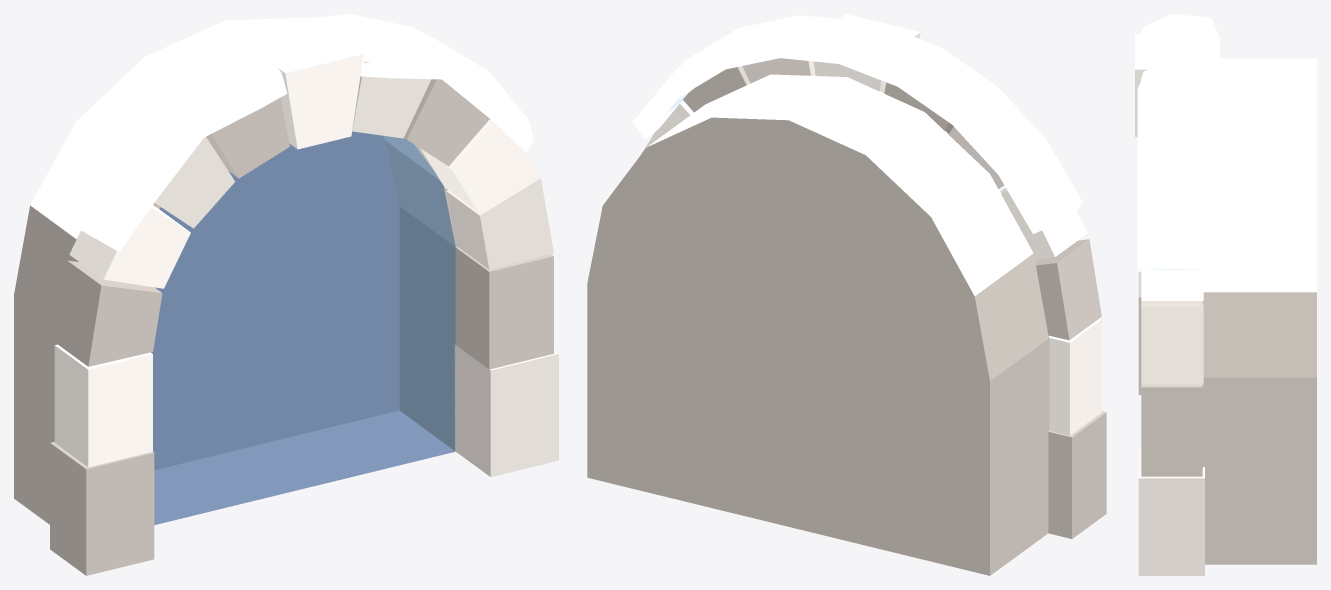
Rendered from tunnel-mouth.glb.
The picture shows the model from 3 angles, left to right: view 1: azimuth 30°, elevation 25°; view 2: azimuth 150°, elevation 25°; view 3: azimuth 270°, elevation 25°; orthographic projection. The views are drawn at different scales.
Parts seen in each view (by area): view 1: tunnel-mouth; view 2: tunnel-mouth; view 3: tunnel-mouth.
Part boxes in pixels (left/top/right/bottom): tunnel-mouth: left=14, top=14, right=558, bottom=575; tunnel-mouth: left=587, top=14, right=1106, bottom=575; tunnel-mouth: left=1135, top=14, right=1316, bottom=575.
Bounding box in the file's own units: 11 × 10.5 × 4.
